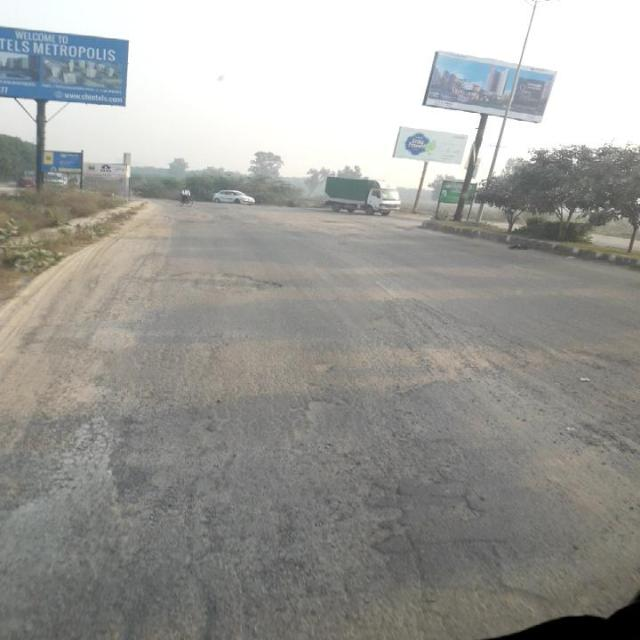D20: (115, 322, 434, 477)
D40: (148, 447, 256, 639), (362, 456, 498, 554), (280, 391, 368, 454), (153, 256, 291, 294)
